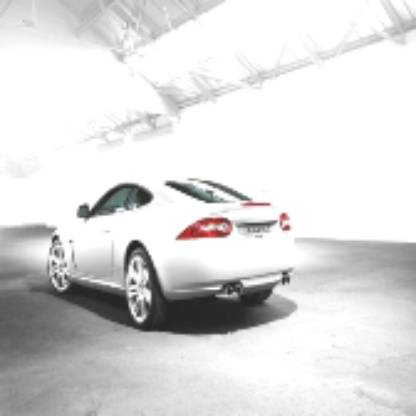Vehicle: (47, 176, 298, 326)
